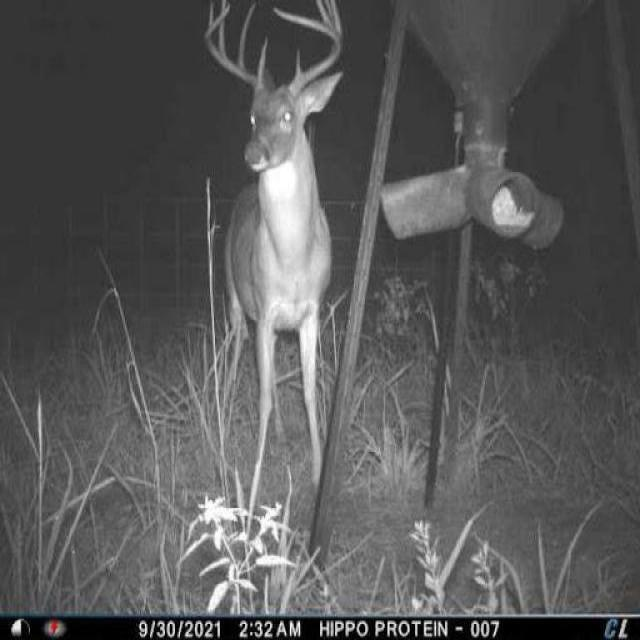deer: (192, 0, 351, 517)
